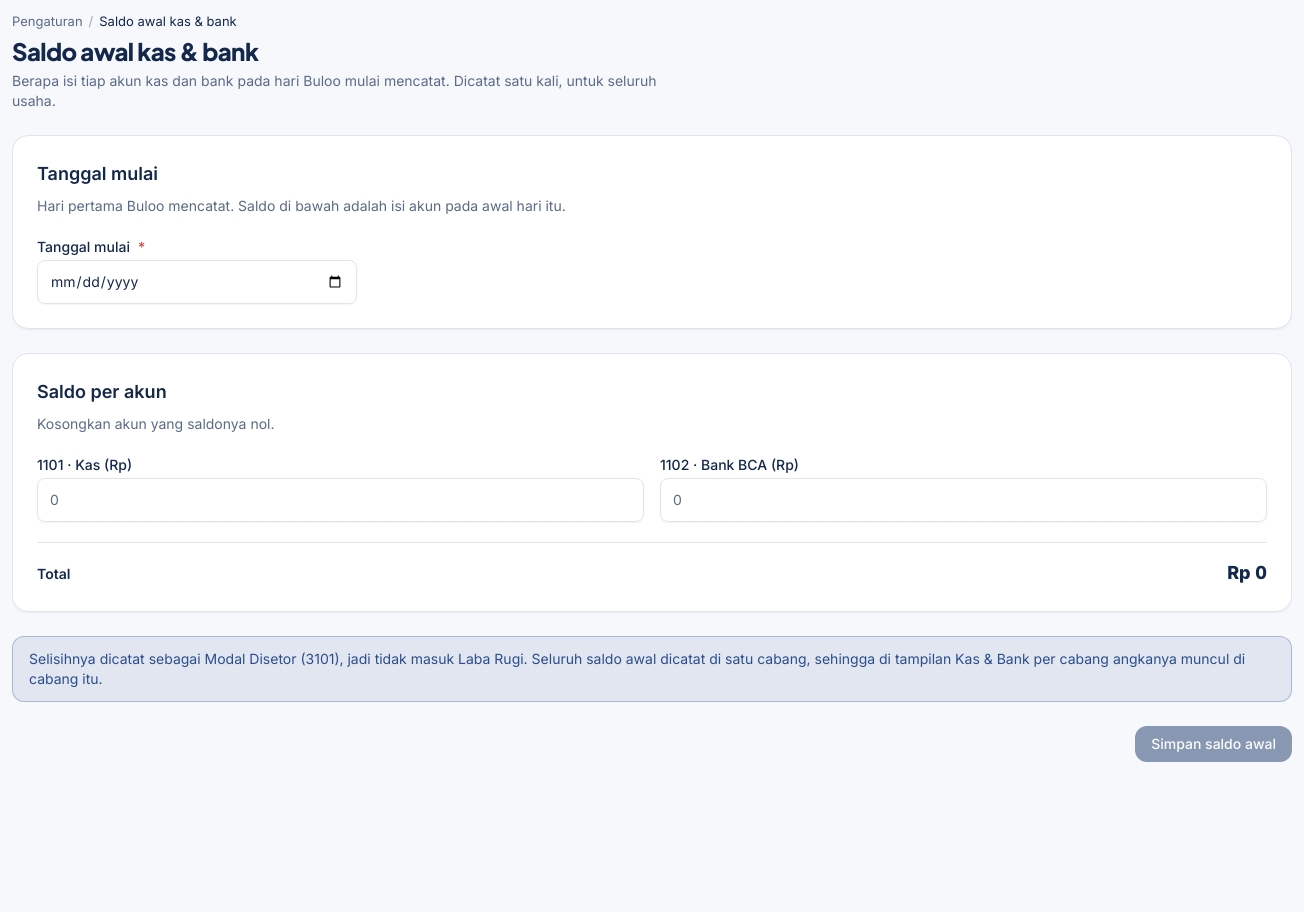
Scenario: CashBankOpeningScreen › shows the server's refusal and keeps what was typed
Type "500" into the field labelled "1101 · Kas (Rp)" at (340, 500), box [37,478,644,522]
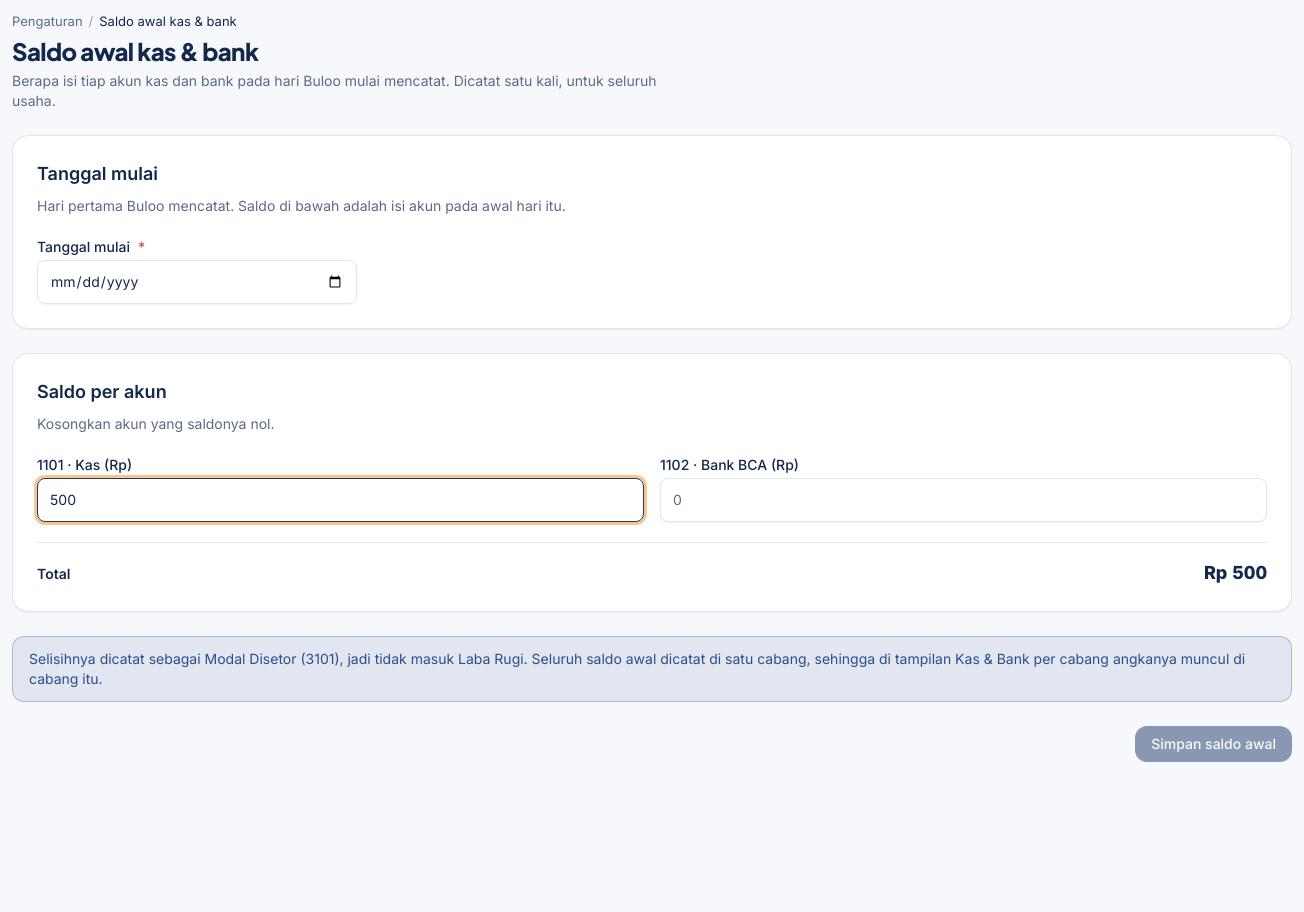
Type "2026-01-01" into the date field labelled "Tanggal mulai *" at (197, 282), box [37,260,357,304]
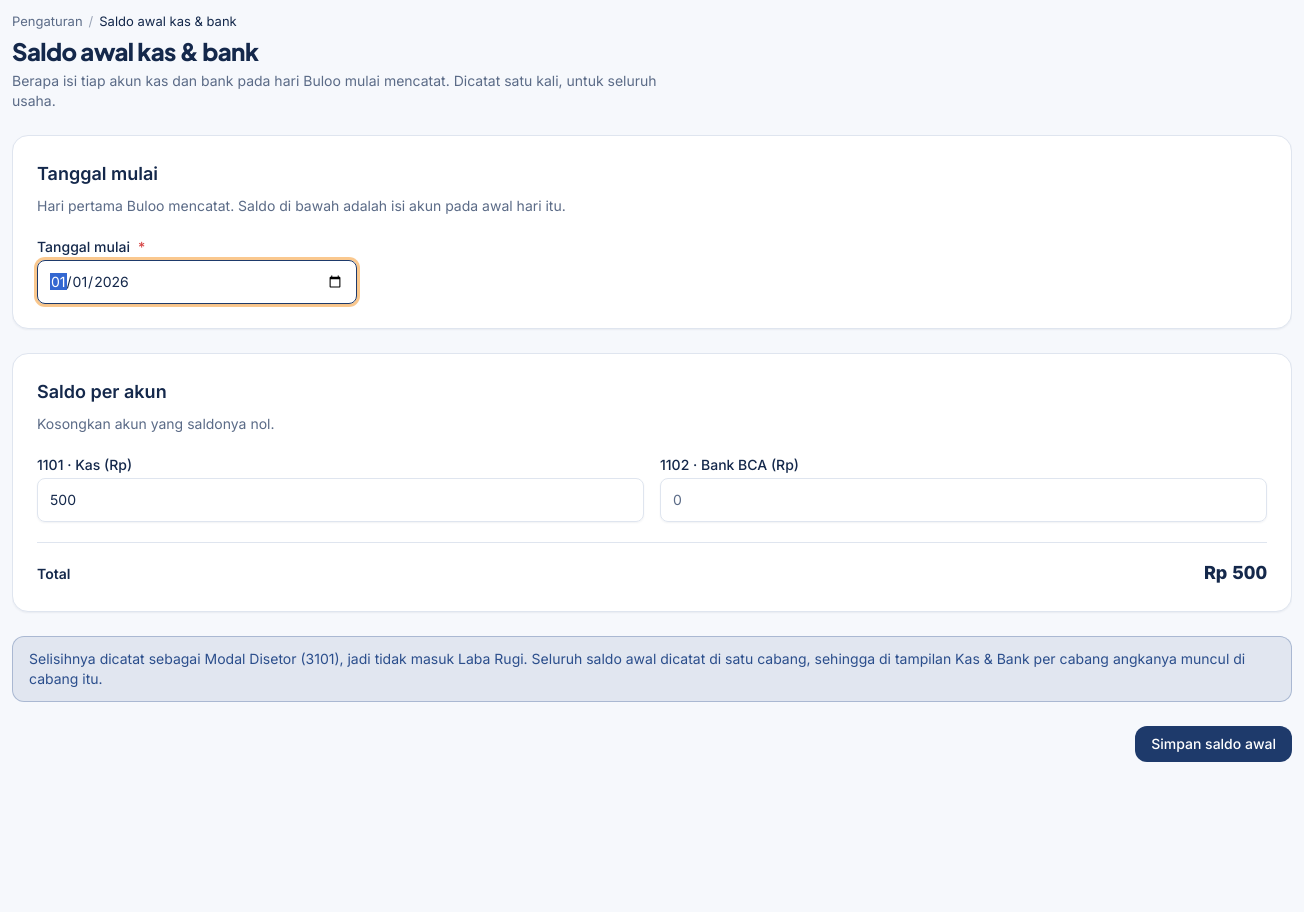
Click the button "Simpan saldo awal" at (1214, 744), box [1135,726,1292,762]
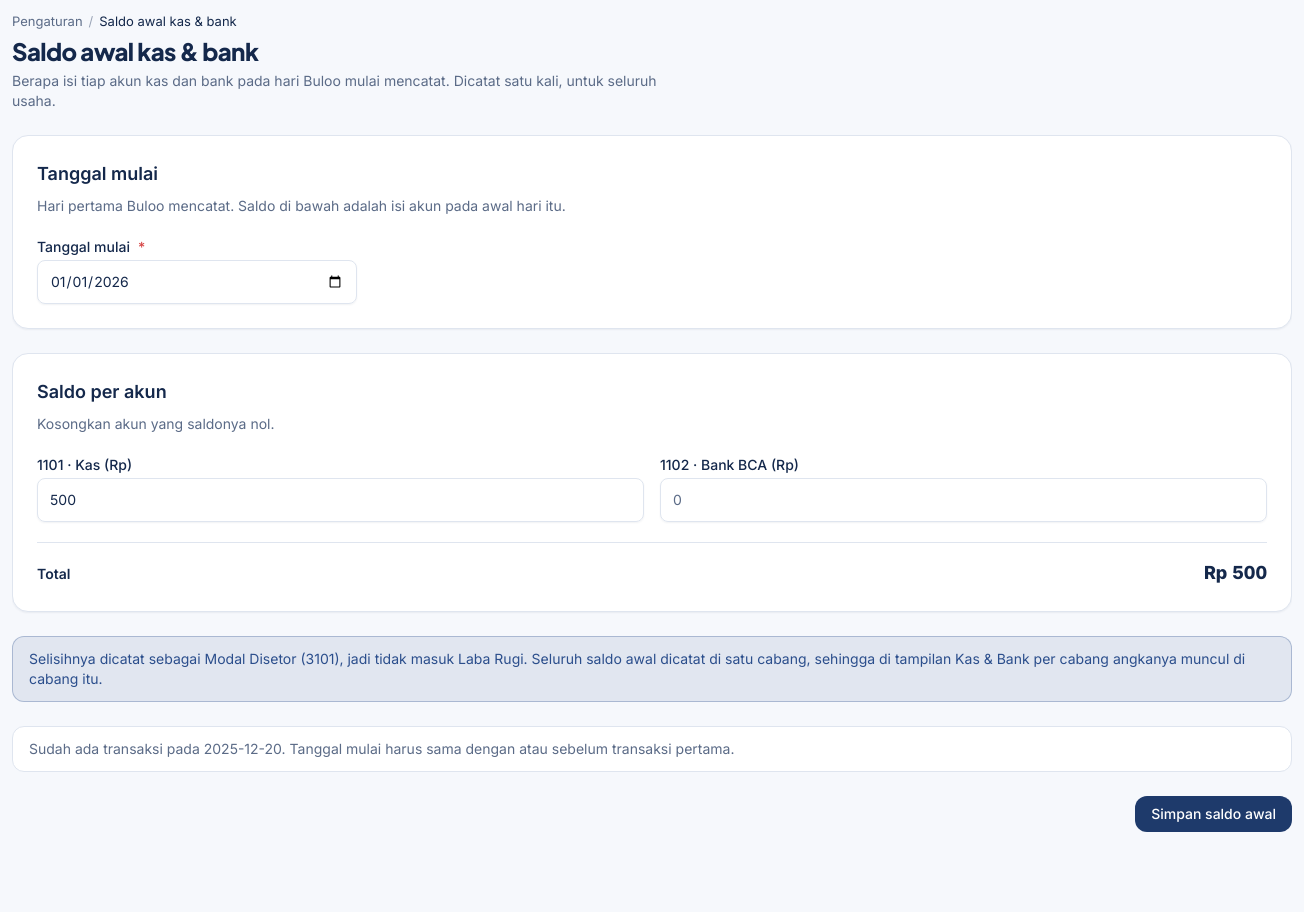
Check: the text "Sudah ada transaksi pada 2025-12-20" is shown, box [29,740,734,757]
